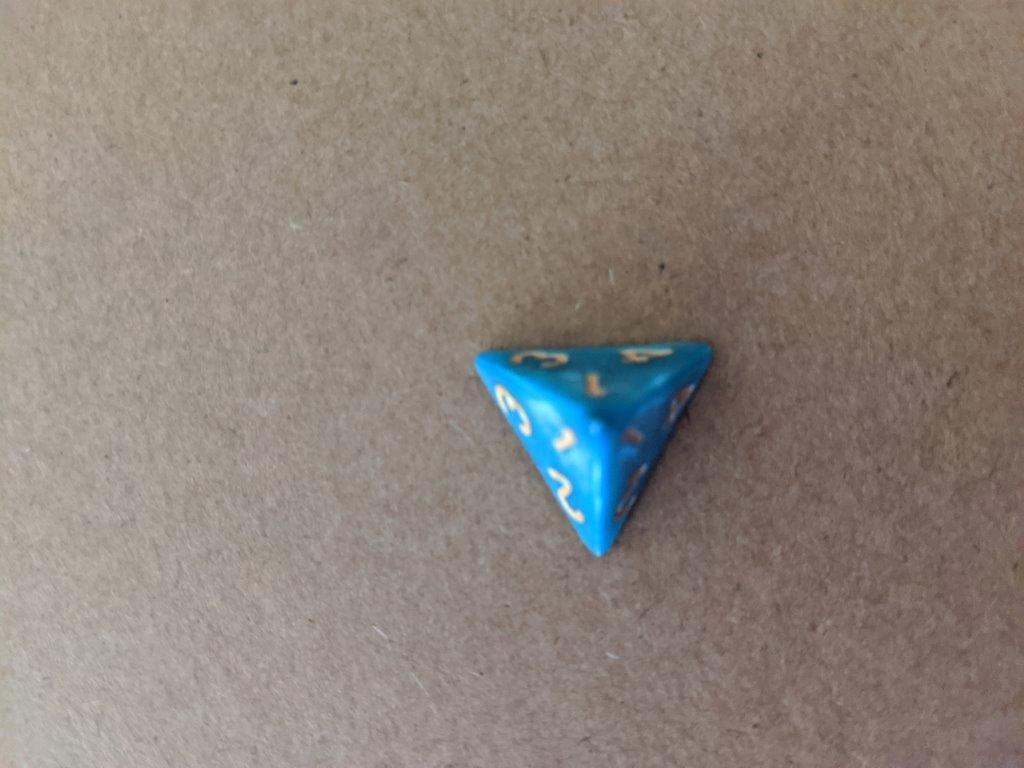d4-1: (464, 339, 725, 567)
